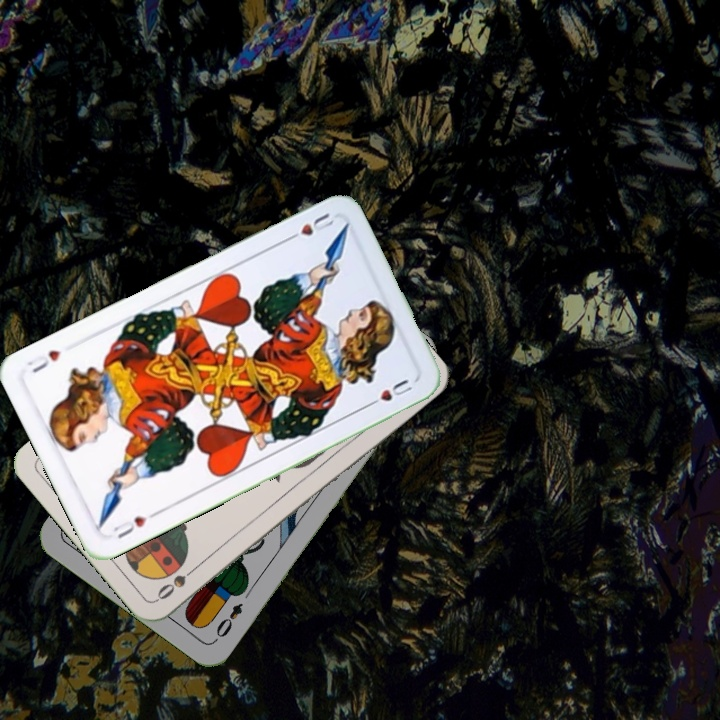EO: (210, 598, 246, 644)
HU: (282, 209, 338, 244), (109, 508, 160, 541)
SO: (153, 560, 202, 603)
